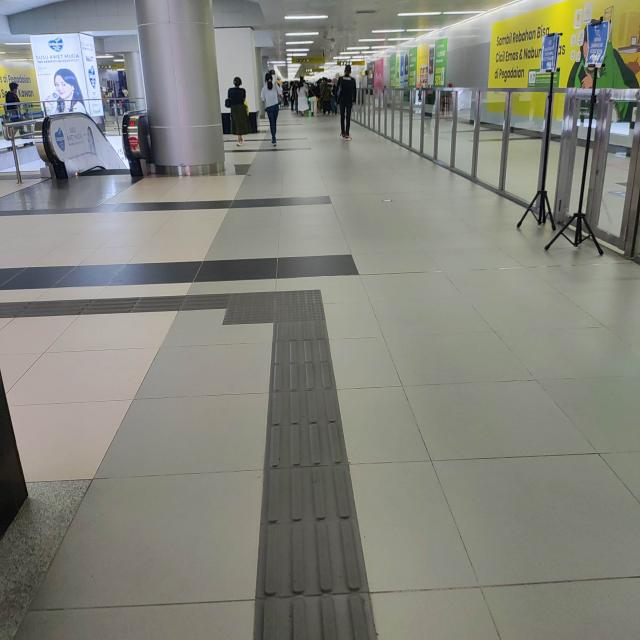kiri: (183, 273, 332, 341)
